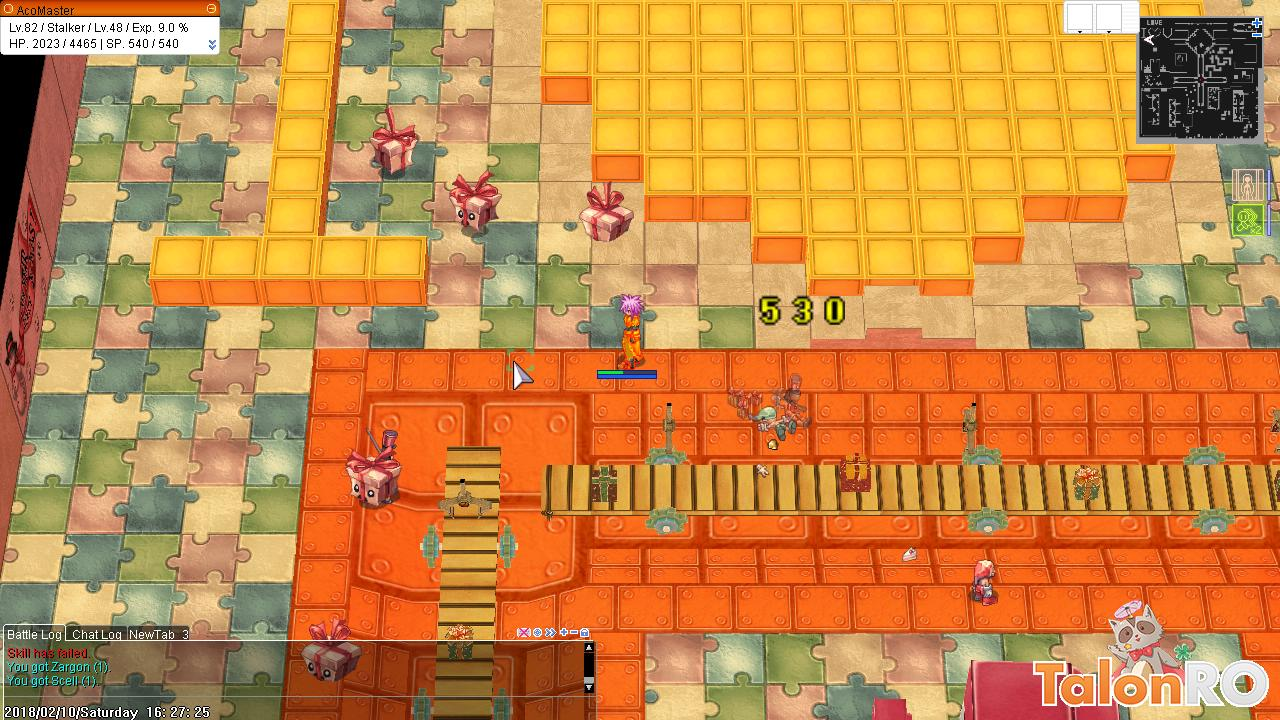loot: (897, 538, 921, 569), (761, 430, 781, 456)
myst_case: (298, 621, 363, 692), (444, 169, 505, 239), (578, 179, 639, 249), (367, 103, 420, 181), (343, 448, 404, 506)
